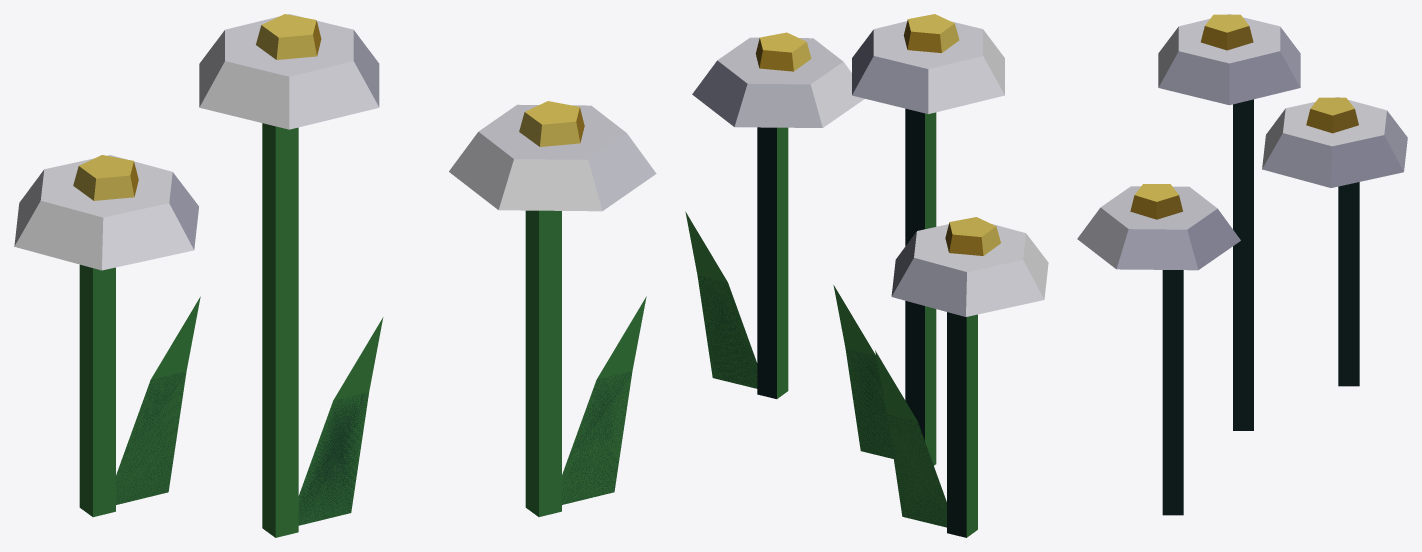
File: flower_white.glb
The picture shows the model from 3 angles, left to right: view 1: azimuth 30°, elevation 25°; view 2: azimuth 150°, elevation 25°; view 3: azimuth 270°, elevation 25°; orthographic projection. The views are drawn at different scales.
Visible parts, largest first — view 1: flower_white; view 2: flower_white; view 3: flower_white.
Boxes of the visible parts, <box> form: flower_white: <box>14,14,656,537</box>; flower_white: <box>685,14,1048,537</box>; flower_white: <box>1077,14,1407,515</box>.
Bounding box in the file's own units: 0.4099 × 0.38 × 0.2822.
